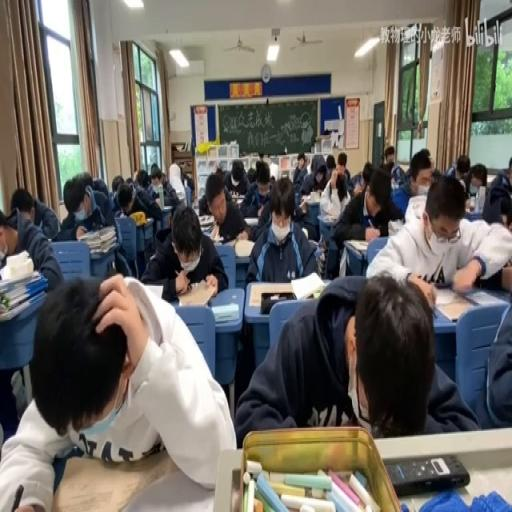calculator: (0, 289, 45, 320), (174, 276, 216, 306), (247, 282, 292, 308), (290, 269, 326, 300), (210, 300, 238, 322), (234, 238, 256, 256), (142, 283, 164, 299), (197, 212, 214, 232), (304, 189, 322, 205), (346, 239, 368, 252), (134, 215, 153, 226), (387, 219, 400, 235), (298, 196, 308, 214), (320, 213, 338, 222), (242, 214, 258, 224), (154, 194, 164, 208), (174, 188, 185, 200), (230, 196, 244, 205), (213, 234, 223, 242), (485, 175, 495, 183)
paper: (3, 269, 232, 509), (236, 270, 474, 441), (366, 172, 510, 294), (244, 176, 318, 283), (328, 164, 386, 278), (469, 273, 510, 431), (0, 194, 62, 294), (54, 170, 120, 244), (110, 181, 158, 273), (195, 169, 252, 246), (479, 156, 512, 222), (144, 164, 180, 210), (444, 154, 472, 198), (327, 151, 352, 192), (389, 161, 410, 209), (291, 150, 308, 188), (74, 170, 94, 194), (379, 146, 395, 176), (468, 162, 486, 188), (350, 169, 365, 195), (254, 160, 270, 184), (310, 154, 325, 175), (198, 192, 211, 215), (134, 168, 148, 189), (182, 172, 194, 194), (111, 174, 125, 192), (362, 164, 372, 186), (231, 168, 243, 185), (245, 166, 256, 184), (419, 148, 431, 162), (74, 225, 86, 239), (428, 155, 435, 169), (508, 158, 512, 179), (160, 174, 166, 188), (269, 174, 275, 184)
person: (385, 452, 470, 494), (499, 265, 512, 290), (432, 280, 451, 289)
